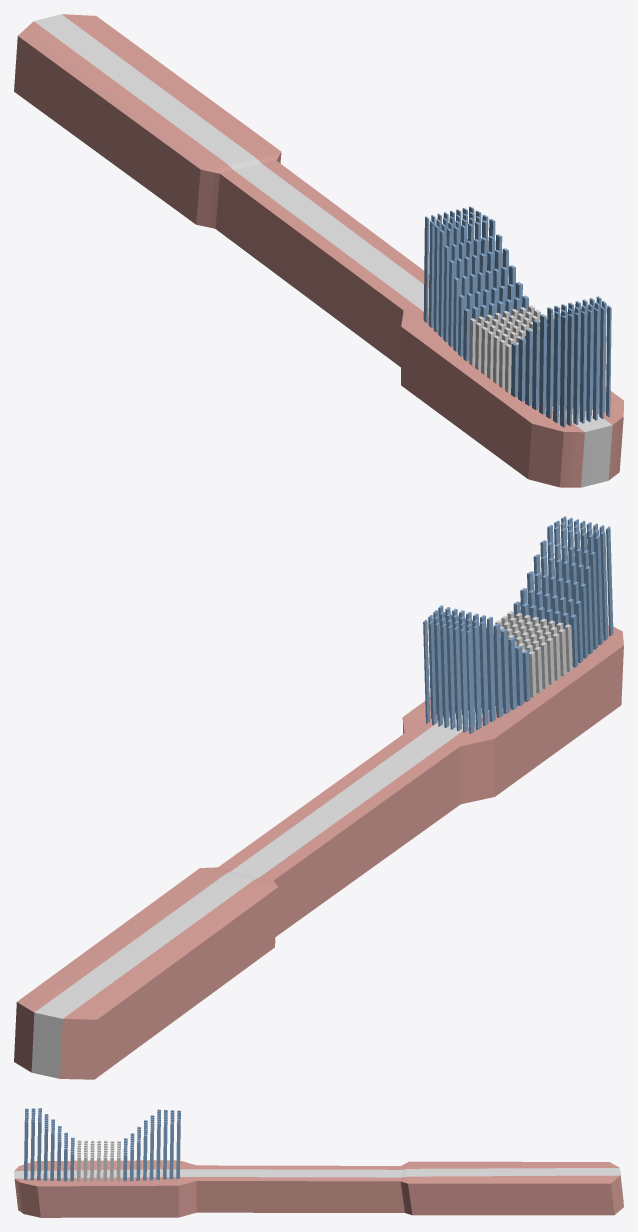
The model's file is 3D_Model_Brush.fbx.
The picture shows the model from 3 angles, top to bottom: view 1: azimuth 30°, elevation 25°; view 2: azimuth 150°, elevation 25°; view 3: azimuth 270°, elevation 25°; orthographic projection. The views are drawn at different scales.
Visible parts, largest first — view 1: polySurface192; view 2: polySurface192; view 3: polySurface192.
Part boxes in pixels (x1=…): polySurface192: x1=14, y1=14, x2=623, y2=487; polySurface192: x1=14, y1=516, x2=623, y2=1079; polySurface192: x1=14, y1=1108, x2=623, y2=1217.
Size of the model in its own units: 0.9856 by 1.67 by 10.09.
